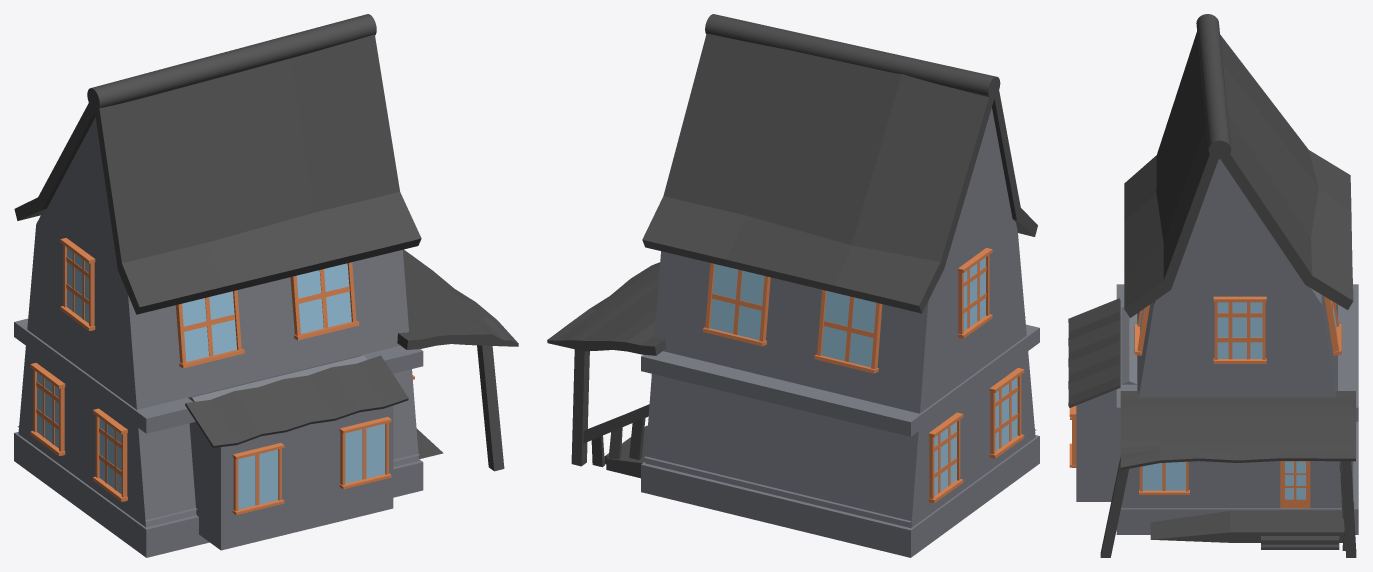
The model's file is House1 .fbx.
3 views of the same model, side by side, from view 1: azimuth 30°, elevation 25°; view 2: azimuth 150°, elevation 25°; view 3: azimuth 270°, elevation 25° (orthographic). The views are drawn at different scales.
Parts seen in each view (by area): view 1: Cube.031; view 2: Cube.031; view 3: Cube.031.
Part boxes in pixels (x1,y1,x2,y2): Cube.031: [14, 14, 518, 557]; Cube.031: [547, 14, 1039, 557]; Cube.031: [1068, 14, 1358, 557].
Bounding box in the file's own units: 753 × 822 × 546.
